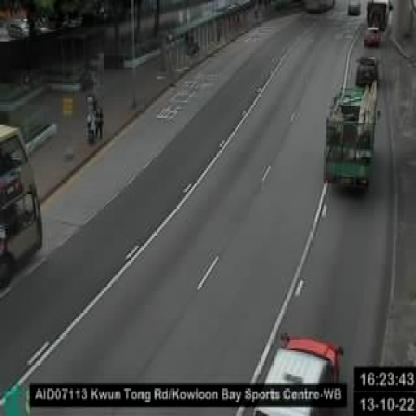Bus: (0, 122, 44, 290)
Car: (238, 326, 342, 412), (355, 56, 381, 89), (365, 25, 382, 47), (349, 1, 363, 15)
Truck: (326, 84, 378, 195), (366, 1, 393, 30)
